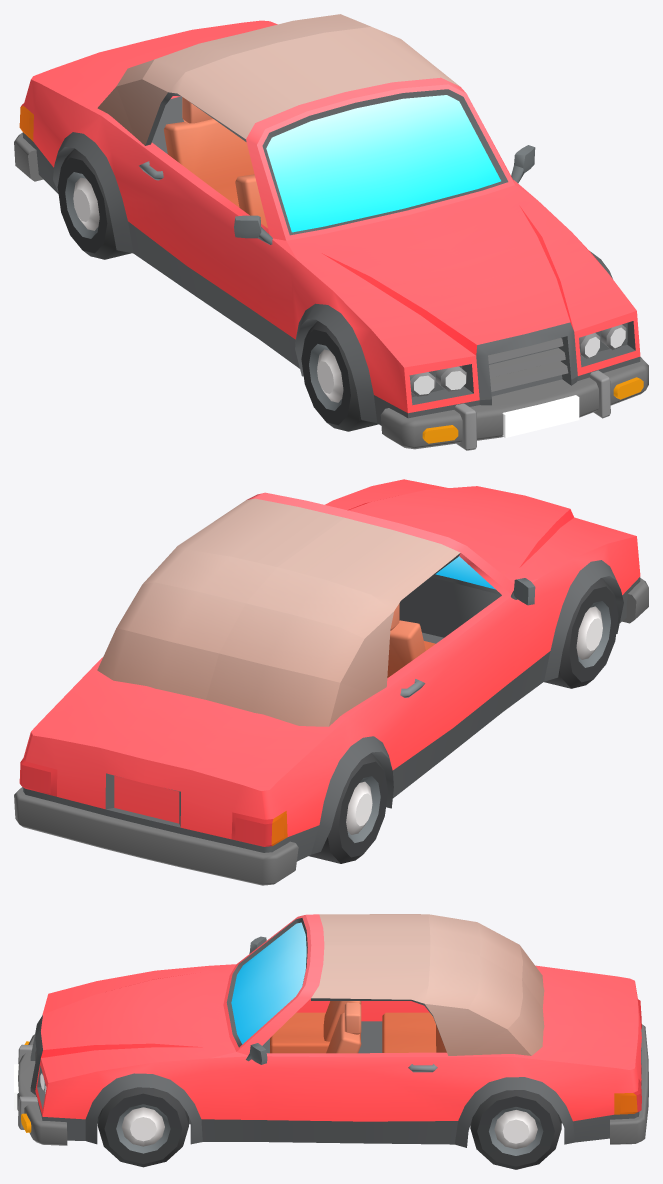
The model's file is Car_27.glb.
The picture shows the model from 3 angles, top to bottom: view 1: azimuth 30°, elevation 25°; view 2: azimuth 150°, elevation 25°; view 3: azimuth 270°, elevation 25°; orthographic projection. The views are drawn at different scales.
Parts seen in each view (by area): view 1: Car_27, Wheel_145, Wheel_146; view 2: Car_27, Wheel_146, Wheel_145; view 3: Car_27, Wheel_147, Wheel_148.
Boxes of the visible parts, left/top/right/bottom form: Car_27: left=14, top=14, right=648, bottom=450; Wheel_145: left=301, top=321, right=378, bottom=431; Wheel_146: left=57, top=148, right=130, bottom=259; Car_27: left=14, top=479, right=648, bottom=885; Wheel_146: left=309, top=753, right=387, bottom=863; Wheel_145: left=544, top=578, right=618, bottom=688; Car_27: left=14, top=914, right=648, bottom=1147; Wheel_147: left=97, top=1087, right=188, bottom=1167; Wheel_148: left=470, top=1090, right=561, bottom=1169.
Bounding box in the file's own units: 2.53 × 1.78 × 5.89.
2 materials, 2 textured.
